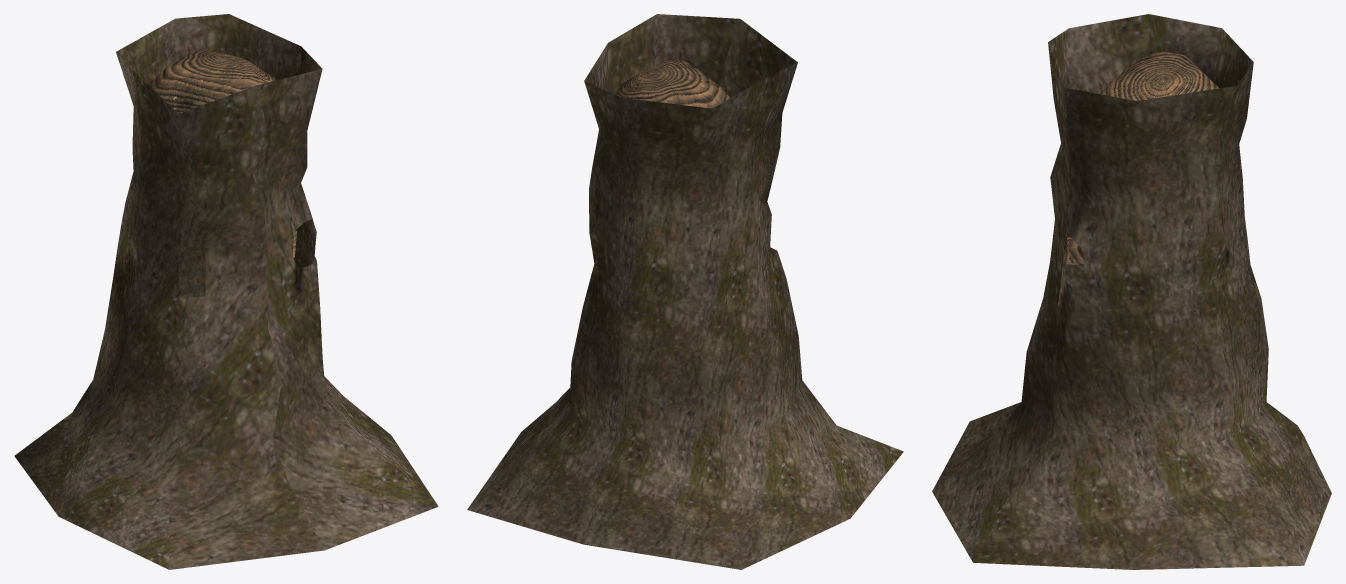
File: StumpWithAttic.fbx
3 renders of one model, left to right at view 1: azimuth 30°, elevation 25°; view 2: azimuth 150°, elevation 25°; view 3: azimuth 270°, elevation 25°, orthographic. The views are drawn at different scales.
Visible parts, largest first — view 1: TreeBark, Attic; view 2: TreeBark, Attic; view 3: TreeBark, Attic.
Boxes of the visible parts, box(x1,y1,x2,y2) form: TreeBark: box(14, 14, 438, 569); Attic: box(148, 51, 276, 113); TreeBark: box(467, 14, 903, 569); Attic: box(615, 60, 730, 108); TreeBark: box(932, 14, 1331, 569); Attic: box(1100, 52, 1218, 101).
Size of the model in its own units: 1704 by 1726 by 2136.
